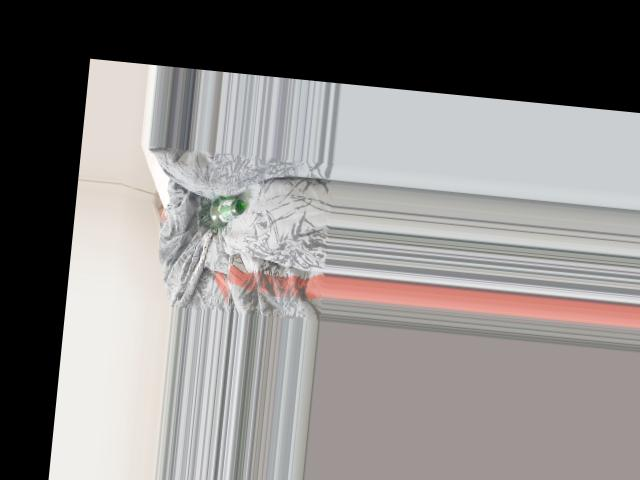beer: (198, 193, 246, 231)
